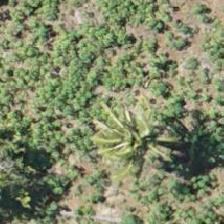coconut_tree: (85, 88, 175, 178)
